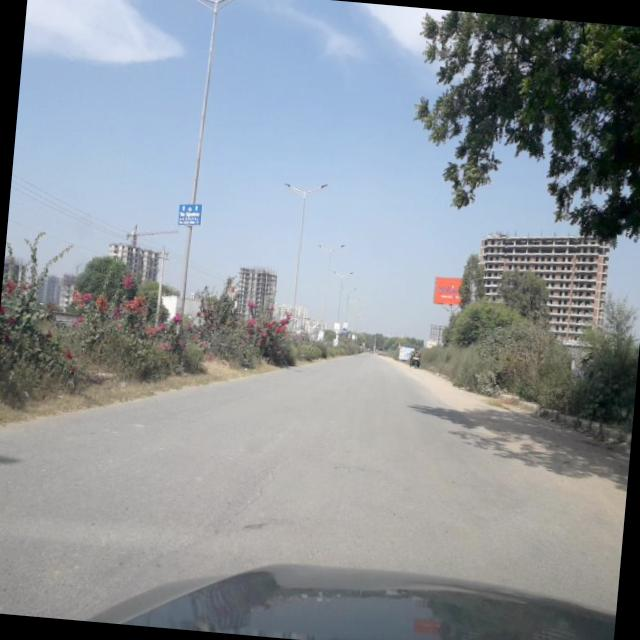pothole: (227, 457, 280, 524)
